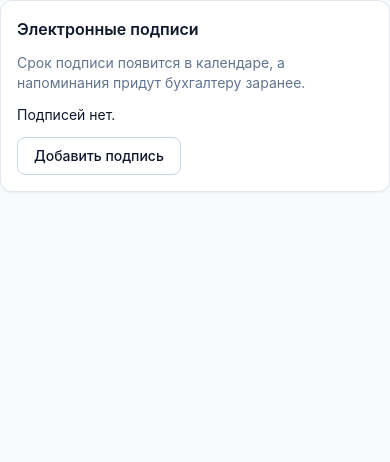
Test: подпись из списка › генеральный директор выбран сразу, нужна только дата
The image size is (390, 462).
Later steps or results of the test are not shown.
Click the button "Добавить подпись" at point(99, 156), box [17,137,181,175]
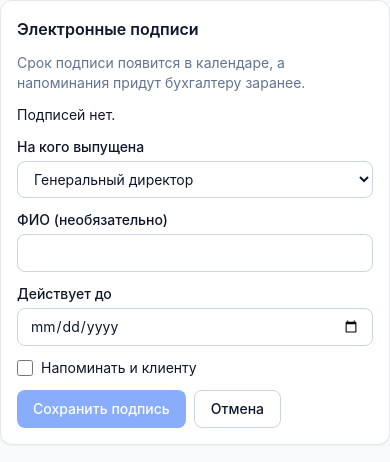
Check: the dropdown labelled "На кого выпущена" shows "Генеральный директор", box [17,161,373,198]
